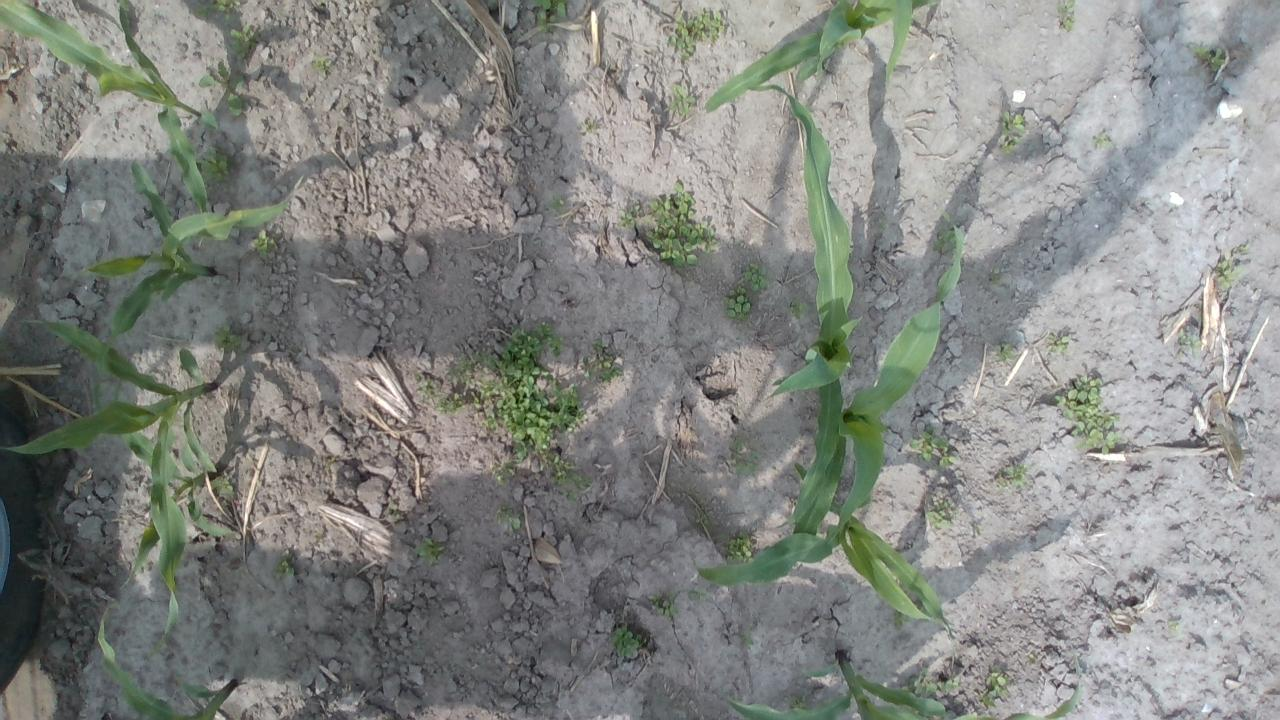Maize: (0, 314, 219, 665), (761, 215, 968, 575), (750, 78, 863, 534), (0, 0, 218, 215), (78, 160, 290, 377), (695, 466, 953, 640), (106, 384, 235, 652), (722, 647, 1080, 720), (707, 0, 934, 113), (95, 605, 238, 720)
Weeds: (477, 319, 585, 463), (644, 182, 716, 271), (1054, 375, 1122, 456), (666, 10, 726, 59), (198, 65, 245, 118), (548, 454, 593, 502), (910, 429, 960, 467), (582, 338, 623, 384), (909, 667, 960, 697), (608, 622, 646, 658), (528, 0, 568, 34), (197, 150, 231, 184), (722, 283, 752, 321), (1000, 111, 1024, 155), (198, 0, 242, 23), (414, 536, 445, 568), (734, 438, 758, 479), (982, 670, 1009, 706), (229, 25, 258, 58), (996, 462, 1028, 490), (1194, 46, 1226, 74), (741, 264, 769, 296), (726, 526, 752, 560), (926, 500, 953, 530), (649, 592, 680, 618), (1216, 260, 1244, 288), (670, 85, 696, 114), (434, 392, 465, 416), (213, 324, 240, 350), (253, 231, 276, 258), (1057, 0, 1075, 33), (272, 552, 294, 578), (618, 205, 640, 230), (995, 342, 1019, 364), (1178, 327, 1202, 349), (934, 228, 956, 252), (786, 298, 809, 320), (1048, 334, 1070, 354), (312, 56, 336, 73), (212, 479, 234, 497), (453, 359, 474, 377), (496, 461, 513, 483), (786, 695, 810, 710), (504, 511, 521, 530), (1092, 134, 1110, 150), (549, 194, 565, 210), (892, 612, 908, 626), (582, 118, 598, 132), (417, 380, 433, 393), (688, 590, 705, 601), (991, 272, 1002, 289), (742, 633, 753, 648), (1166, 621, 1179, 633), (1238, 244, 1248, 252)
